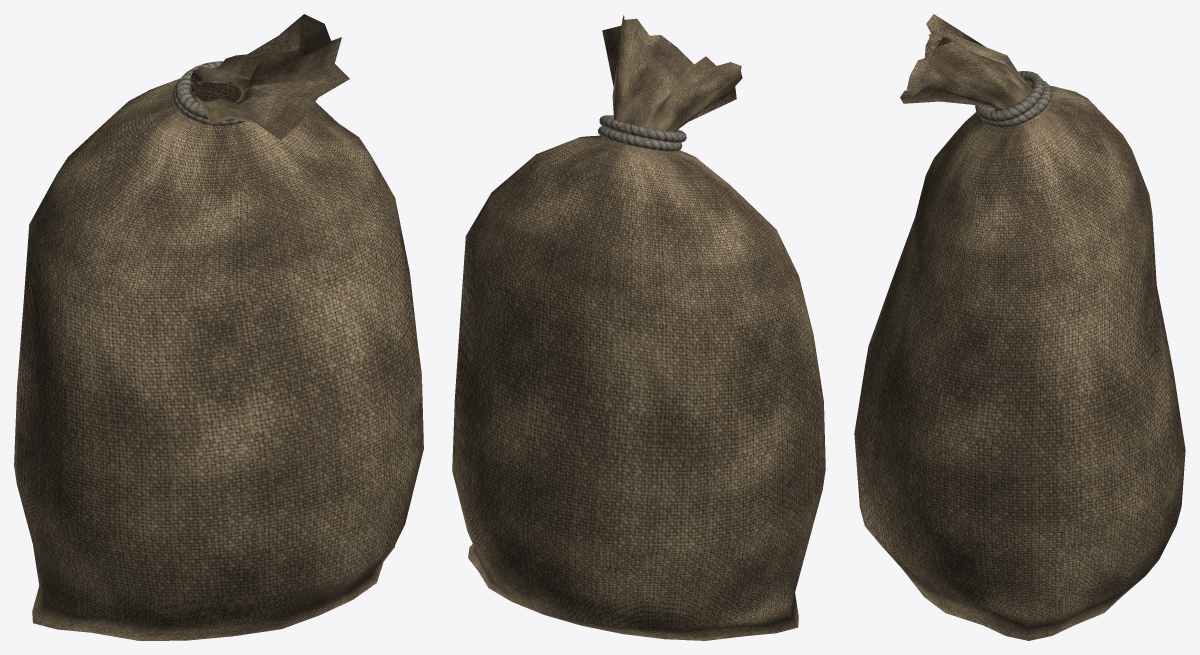
File: bag.fbx
The picture shows the model from 3 angles, left to right: view 1: azimuth 30°, elevation 25°; view 2: azimuth 150°, elevation 25°; view 3: azimuth 270°, elevation 25°; orthographic projection. The views are drawn at different scales.
Visible parts, largest first — view 1: MGH-Bag_889.Shape; view 2: MGH-Bag_889.Shape; view 3: MGH-Bag_889.Shape.
Part boxes in pixels (x1,y1,x2,y2): MGH-Bag_889.Shape: [14, 14, 423, 640]; MGH-Bag_889.Shape: [452, 15, 825, 640]; MGH-Bag_889.Shape: [854, 14, 1185, 640].
Bounding box in the file's own units: 56.06 × 85.04 × 46.97.
2 materials, 2 textured.
